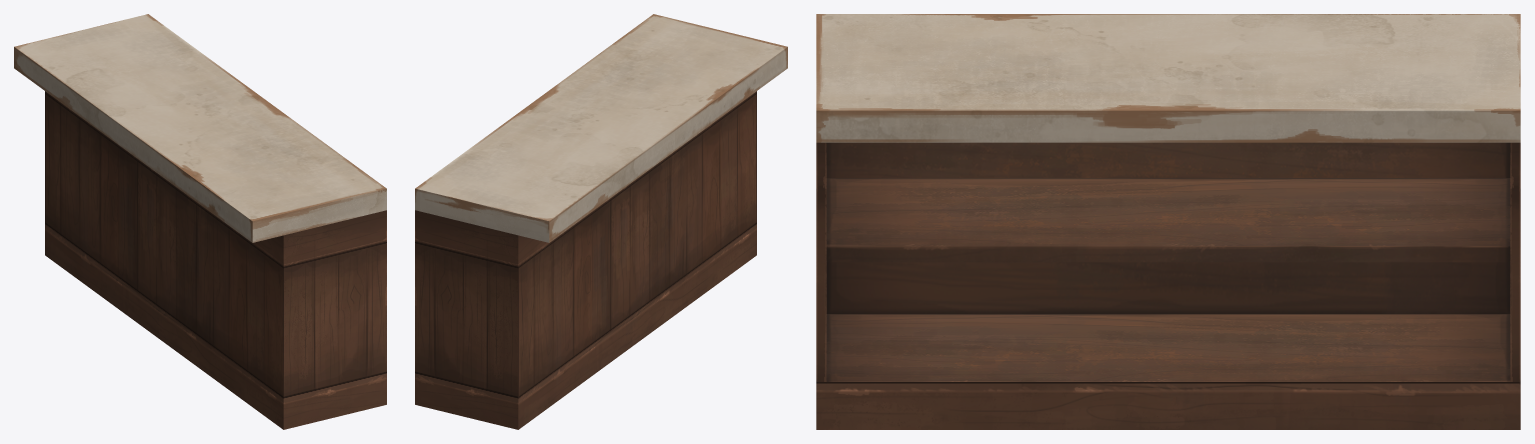
The model's file is store_counter02_2m.fbx.
The picture shows the model from 3 angles, left to right: view 1: azimuth 30°, elevation 25°; view 2: azimuth 150°, elevation 25°; view 3: azimuth 270°, elevation 25°; orthographic projection. The views are drawn at different scales.
Visible parts, largest first — view 1: store_counter02_2m; view 2: store_counter02_2m; view 3: store_counter02_2m.
Boxes of the visible parts, x1,y1,x2,y2 form: store_counter02_2m: (14, 14, 386, 429); store_counter02_2m: (415, 14, 787, 429); store_counter02_2m: (816, 14, 1520, 429).
Bounding box in the file's own units: 65 × 100 × 200.
